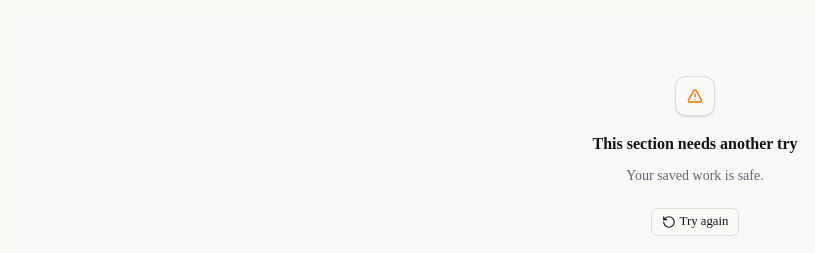
it: ComponentErrorBoundary › offers a clear retry action
Click the button "Try again" at (695, 222), box [650,208,740,236]
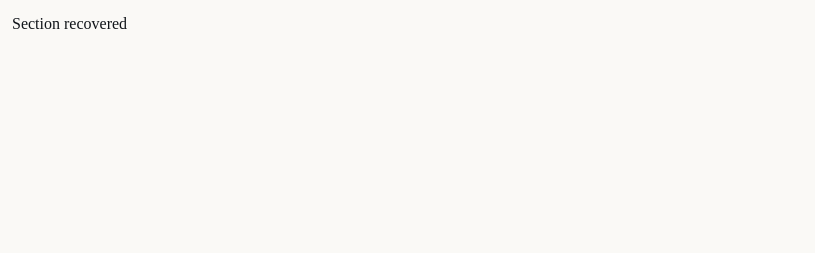
Check: the text "Section recovered" is shown, box [12,15,127,32]
